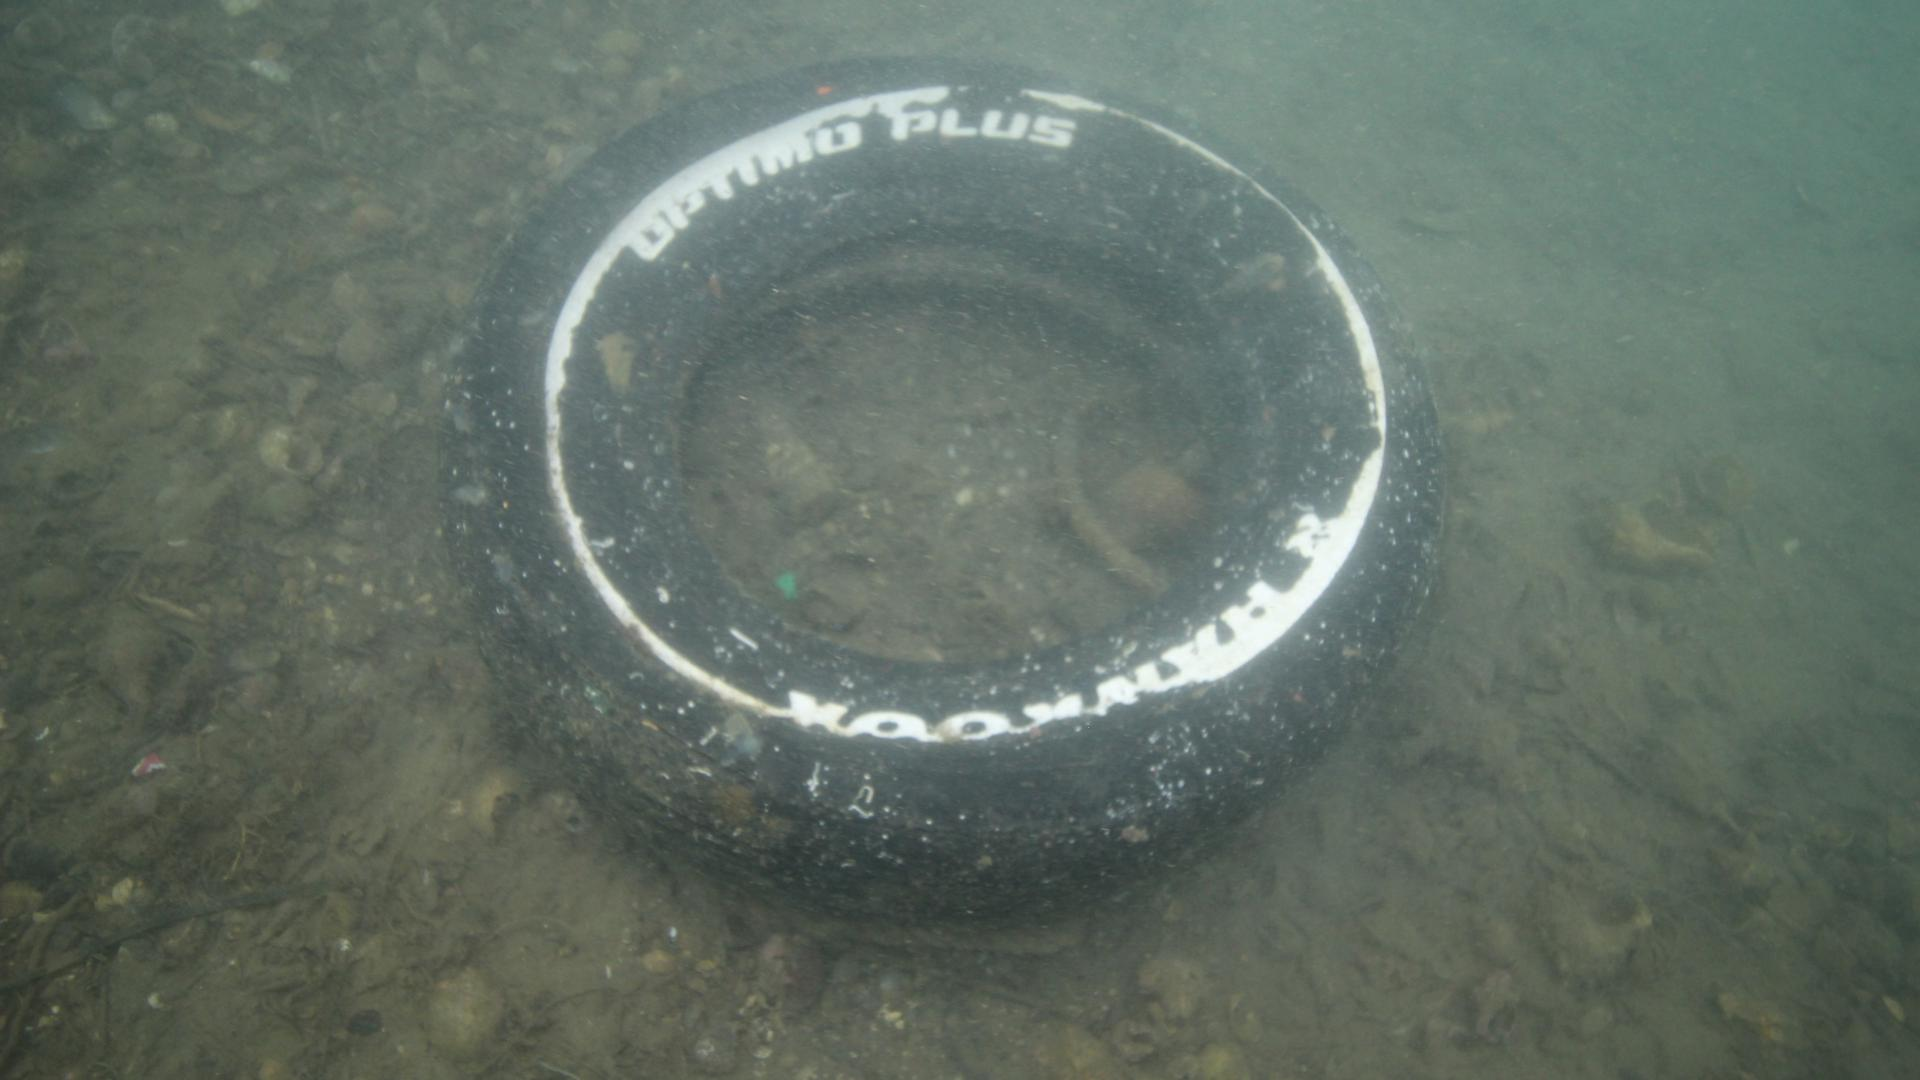tire: (433, 51, 1445, 926)
